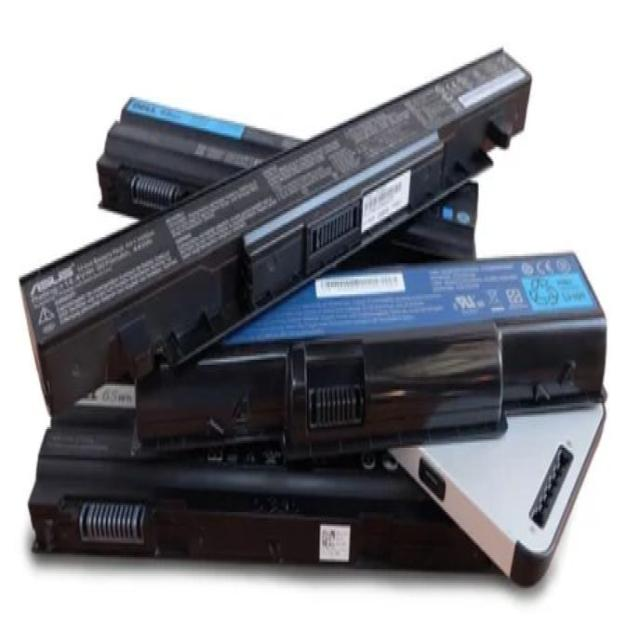electronic: (21, 39, 638, 623)
